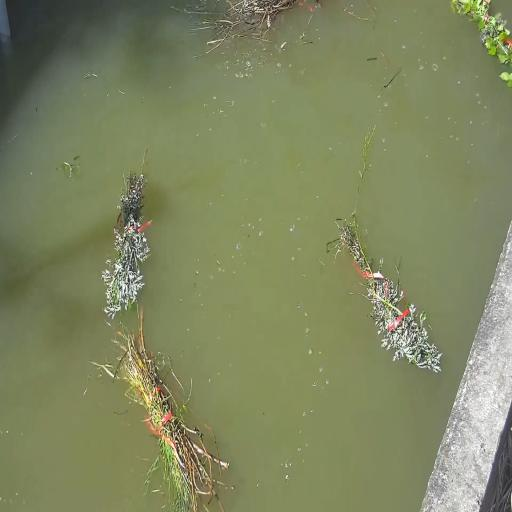twig: (326, 127, 442, 372), (115, 313, 229, 512), (102, 171, 149, 319), (202, 0, 299, 48), (451, 0, 512, 69), (500, 71, 512, 87)
